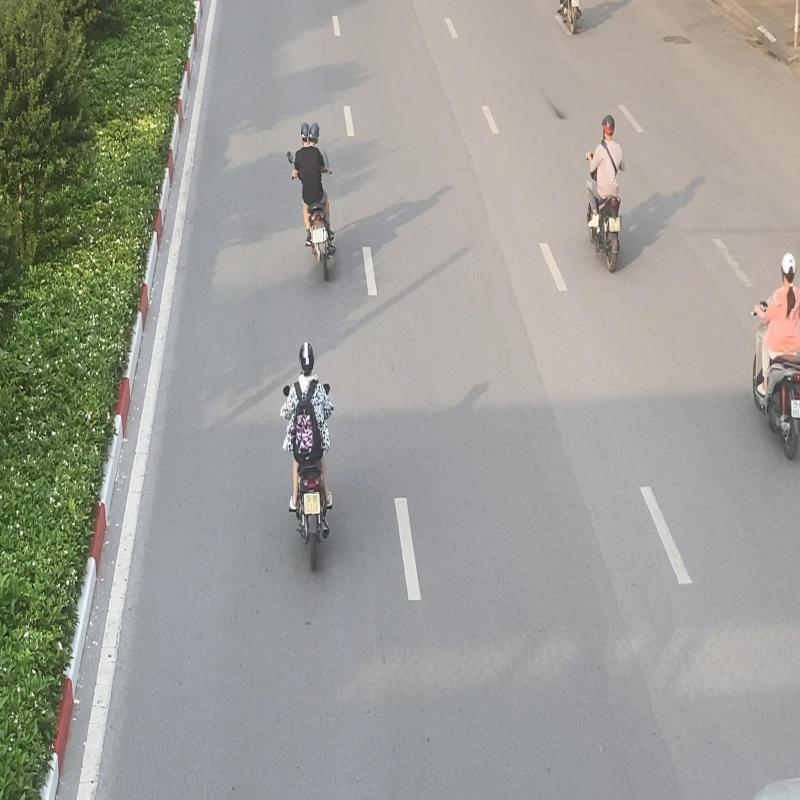helmet: (779, 252, 798, 284), (299, 342, 314, 374), (307, 120, 320, 146)
licenseplate: (304, 492, 320, 515), (312, 229, 324, 243)
motorcyclist: (278, 339, 334, 572), (750, 250, 800, 462), (288, 119, 338, 286)
